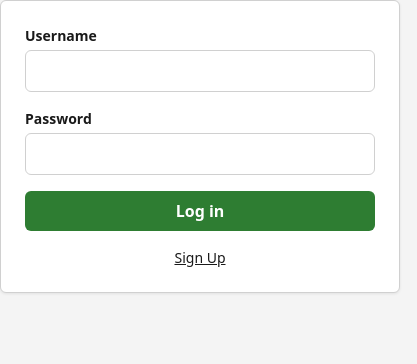
Test: LoginForm (Step 13) › errors › clears the old error as soon as the form is submitted again
Type "someone" into the field labelled "Username".
click(200, 71); type("someone")  # box [25,50,375,92]
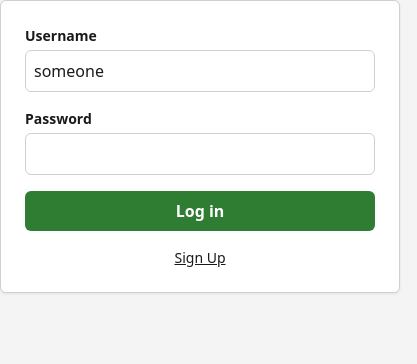
Type "wrong" into the password field labelled "Password".
click(200, 154); type("wrong")  # box [25,133,375,175]
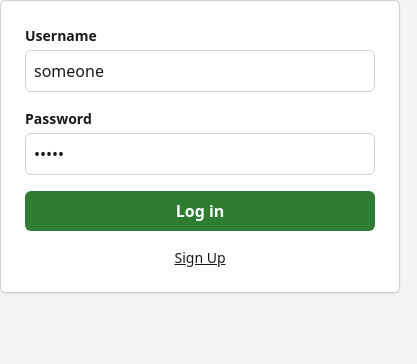
Click the button "Log in".
click(200, 211)  # box [25,191,375,231]
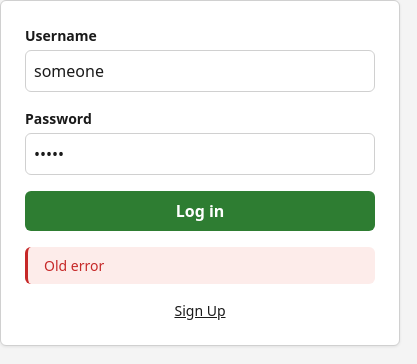
Expected: the list item "Old error" is shown, [44,256,104,275]
Click the button "Log in".
click(200, 211)  # box [25,191,375,231]
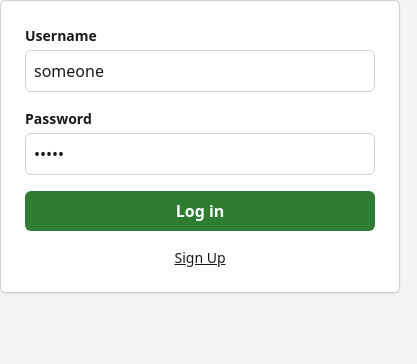
Expected: the list item "Old error" is gone
